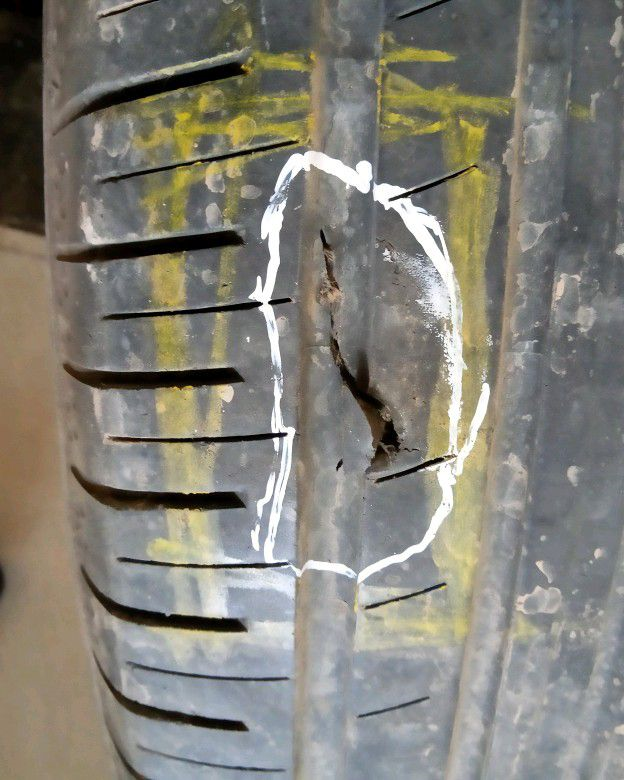tr: (317, 217, 469, 491)
